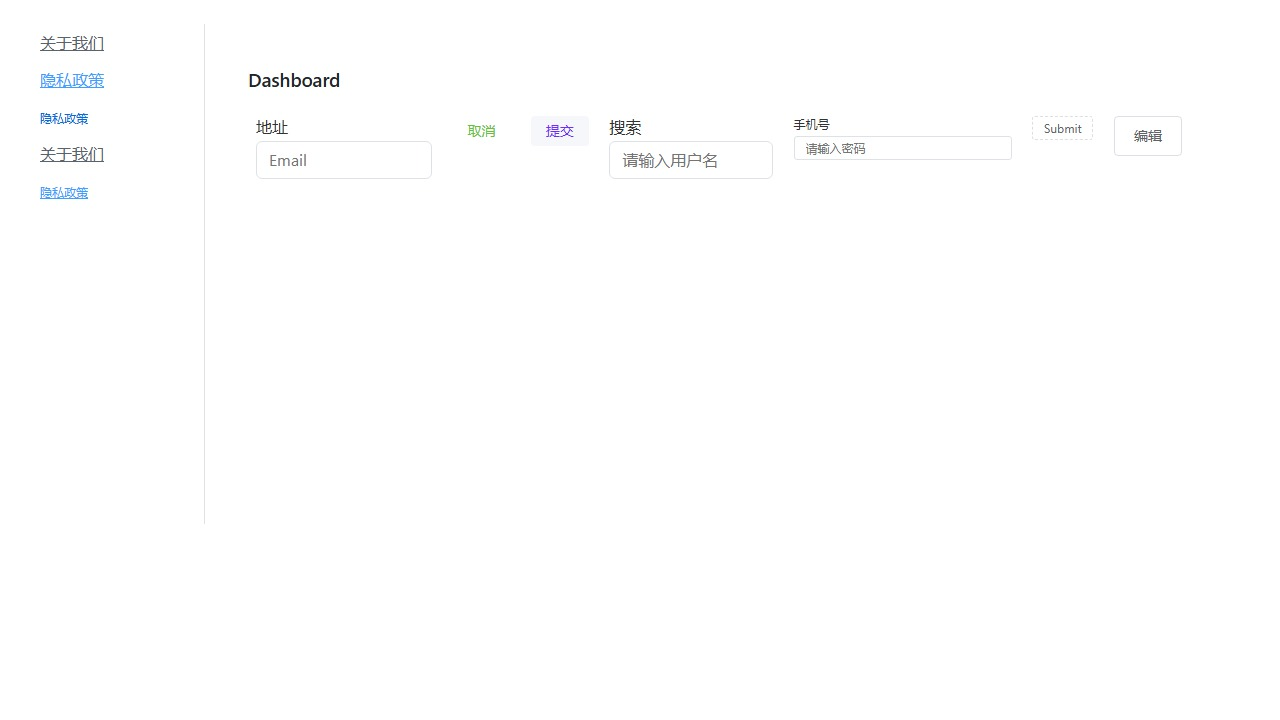button: (1114, 116, 1182, 156), (452, 116, 510, 146), (531, 116, 589, 146), (1032, 116, 1093, 140)
input: (256, 141, 432, 179), (609, 141, 773, 179), (794, 136, 1012, 160)
link: (40, 32, 104, 53), (40, 69, 104, 90), (40, 143, 104, 164), (40, 110, 88, 126), (40, 184, 88, 200)
